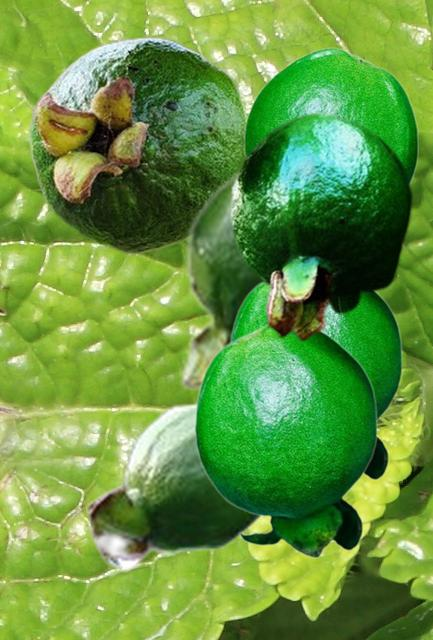guava: (28, 36, 248, 254), (193, 324, 377, 557), (229, 111, 413, 341), (229, 282, 402, 482), (86, 400, 266, 571), (243, 47, 418, 181), (179, 163, 259, 397)
